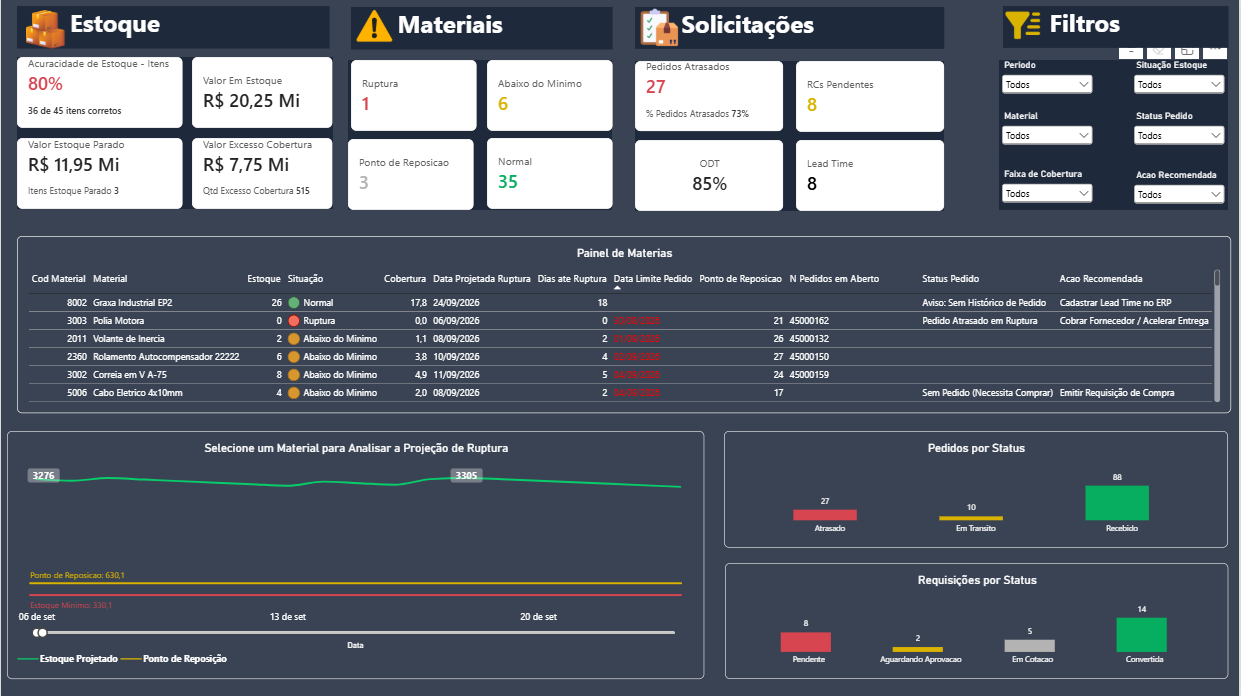

The page's visual inventory and layout, read from the dashboard file:
{"tool":"powerbi","page":{"name":"Dashboard","canvas":[1920,1080],"ordinal":0},"visuals":[{"type":"textbox","box":[24.5,10,484.5,66],"z":0},{"type":"cardVisual","fields":{"Data":["M_Estoque.Valor Em Estoque"]},"box":[296.2,88.8,218.4,110],"z":0,"group":"g1"},{"type":"slicer","fields":{"Values":["fPedidos.Status Pedido"]},"box":[1753.2,172.5,150,61.8],"z":0,"group":"g4"},{"type":"cardVisual","fields":{"Data":["M_Cartoes.Qtd Abaixo do Minimo"]},"box":[753.7,93.7,195,110.2],"z":1000,"group":"g2"},{"type":"cardVisual","fields":{"Data":["M_Pedido.Pedidos Atrasados"]},"box":[983.3,94.4,230,110],"z":1000,"group":"g3"},{"type":"slicer","fields":{"Values":["dMateriais.Material"]},"box":[1548.6,172.5,150,61.8],"z":1000,"group":"g4"},{"type":"columnChart","title":"Requisições por Status","fields":{"Category":["dStatusRequisicao.Status_Nome"],"Y":["M_Requisicao.Total RCs"]},"box":[1123.6,873.6,781,180],"z":1000},{"type":"slicer","fields":{"Values":["dStatusMaterial.Status Estoque"]},"box":[1753.2,93.6,150,65.8],"z":2000,"group":"g4"},{"type":"cardVisual","fields":{"Data":["M_Requisicao.RCs Pendentes"]},"box":[1233.3,94.4,230,110],"z":2000,"group":"g3"},{"type":"cardVisual","fields":{"Data":["M_Cartoes.Valor Estoque Parado"]},"box":[25,214.6,257.9,110],"z":2000,"group":"g1"},{"type":"clusteredColumnChart","title":"Pedidos por Status","fields":{"Category":["fPedidos.Status Pedido"],"Y":["M_Pedido.Total Pedidos"]},"box":[1122.2,669.4,781.9,180.6],"z":2000},{"type":"slicer","title":"Periodo","fields":{"Values":["dCalendario.Ano","dCalendario.AnoMes","dCalendario.Dia"]},"box":[1548.6,93.6,150,60.5],"z":3000,"group":"g4"},{"type":"tableEx","title":"Painel de Materias","fields":{"Values":["dMateriais.Cod Material","dMateriais.Material","M_Estoque.Saldo Atual","M_Estoque.Status Estoque medida","M_Estoque.Cobertura de Estoque","M_Pedido.Data Projetada Ruptura","M_Estoque.Dias ate Ruptura","M_Pedido.Data Limite Pedido","M_Estoque.Ponto de Reposicao","M_Pedido.N Pedidos em Aberto","M_Pedido.Alerta Pedido Nao Atende","M_Pedido.Acao Recomendada"]},"box":[25,366.2,1883.8,275],"z":3000},{"type":"slicer","fields":{"Values":["dMateriais.Faixa de Cobertura"]},"box":[1548.6,262.4,150,61.8],"z":4000,"group":"g4"},{"type":"textbox","box":[543.1,10.6,405.6,65.6],"z":5000},{"type":"cardVisual","fields":{"Data":["M_Cartoes.Valor Excesso Cobertura (Cartao)"]},"box":[296.2,214.8,218,110],"z":5000,"group":"g1"},{"type":"slicer","fields":{"Values":["dStatusMaterial.Acao Recomendada"]},"box":[1753.2,264.7,150,61.8],"z":5000,"group":"g4"},{"type":"textbox","box":[983.6,10.9,480,65.5],"z":6000},{"type":"cardVisual","fields":{"Data":["M_Cartoes.Acuracidade de Estoque1"]},"box":[25,88.8,257.9,110],"z":6000,"group":"g1"},{"type":"cardVisual","fields":{"Data":["M_Pedido.OTIF"]},"box":[983.3,217.1,230,110],"z":6000,"group":"g3"},{"type":"image","box":[990.9,12.7,59.8,59.8],"z":7000},{"type":"image","box":[38.8,15.9,60,60],"z":8000},{"type":"cardVisual","fields":{"Data":["M_Cartoes.Qtd Ruptura"]},"box":[542.4,93.5,195,110.2],"z":8000,"group":"g2"},{"type":"group","id":"g1","title":"Grupo 1","box":[25,88.8,490,236.2],"z":9000},{"type":"cardVisual","fields":{"Data":["M_Cartoes.Qtd Ponto de Reposicao"]},"box":[538.1,216.2,195,110],"z":9000,"group":"g2"},{"type":"image","box":[549.4,10.6,60,60],"z":10000},{"type":"group","id":"g2","title":"Grupo 2","box":[538.1,93.5,410.6,232.7],"z":11000},{"type":"group","id":"g3","title":"Grupo 3","box":[983.3,94.4,480.6,233.3],"z":12000},{"type":"group","id":"g4","title":"Grupo 4","box":[1548.6,93.6,354.6,232.9],"z":13000},{"type":"textbox","box":[1554.2,9.7,350,65.3],"z":14000},{"type":"image","box":[1555.6,9.7,59.7,59.7],"z":15000},{"type":"lineChart","fields":{"Category":["dCalendario.Data"],"Y":["M_Estoque.Estoque Projetado","M_Estoque.Destaque Cruzamento Reposicao"]},"box":[9.7,669.4,1081.9,384.7],"z":16000},{"type":"cardVisual","fields":{"Data":["M_Estoque.Lead Time Material"]},"box":[1233.3,217.1,230,110],"z":19001,"group":"g3"},{"type":"cardVisual","fields":{"Data":["M_Cartoes.Qtd Normal"]},"box":[753.7,214.4,195,110],"z":20503,"group":"g2"}]}

Visuals, with their boxes in screenshot pixels (x1, y1, x2, y2), scaled from the page's 1920x1080 canvas onto the 1241x696 screenshot:
textbox: bbox(16, 6, 329, 49)
cardVisual - M_Estoque.Valor Em Estoque: bbox(191, 57, 333, 128)
slicer - fPedidos.Status Pedido: bbox(1133, 111, 1230, 151)
cardVisual - M_Cartoes.Qtd Abaixo do Minimo: bbox(487, 60, 613, 131)
cardVisual - M_Pedido.Pedidos Atrasados: bbox(636, 61, 784, 132)
slicer - dMateriais.Material: bbox(1001, 111, 1098, 151)
"Requisições por Status" columnChart: bbox(726, 563, 1231, 679)
slicer - dStatusMaterial.Status Estoque: bbox(1133, 60, 1230, 103)
cardVisual - M_Requisicao.RCs Pendentes: bbox(797, 61, 946, 132)
cardVisual - M_Cartoes.Valor Estoque Parado: bbox(16, 138, 183, 209)
"Pedidos por Status" clusteredColumnChart: bbox(725, 431, 1231, 548)
"Periodo" slicer: bbox(1001, 60, 1098, 99)
"Painel de Materias" tableEx: bbox(16, 236, 1234, 413)
slicer - dMateriais.Faixa de Cobertura: bbox(1001, 169, 1098, 209)
textbox: bbox(351, 7, 613, 49)
cardVisual - M_Cartoes.Valor Excesso Cobertura (Cartao): bbox(191, 138, 332, 209)
slicer - dStatusMaterial.Acao Recomendada: bbox(1133, 171, 1230, 210)
textbox: bbox(636, 7, 946, 49)
cardVisual - M_Cartoes.Acuracidade de Estoque1: bbox(16, 57, 183, 128)
cardVisual - M_Pedido.OTIF: bbox(636, 140, 784, 211)
image: bbox(640, 8, 679, 47)
image: bbox(25, 10, 64, 49)
cardVisual - M_Cartoes.Qtd Ruptura: bbox(351, 60, 477, 131)
"Grupo 1" group: bbox(16, 57, 333, 209)
cardVisual - M_Cartoes.Qtd Ponto de Reposicao: bbox(348, 139, 474, 210)
image: bbox(355, 7, 394, 45)
"Grupo 2" group: bbox(348, 60, 613, 210)
"Grupo 3" group: bbox(636, 61, 946, 211)
"Grupo 4" group: bbox(1001, 60, 1230, 210)
textbox: bbox(1005, 6, 1231, 48)
image: bbox(1005, 6, 1044, 45)
lineChart - dCalendario.Data x M_Estoque.Estoque Projetado: bbox(6, 431, 706, 679)
cardVisual - M_Estoque.Lead Time Material: bbox(797, 140, 946, 211)
cardVisual - M_Cartoes.Qtd Normal: bbox(487, 138, 613, 209)
